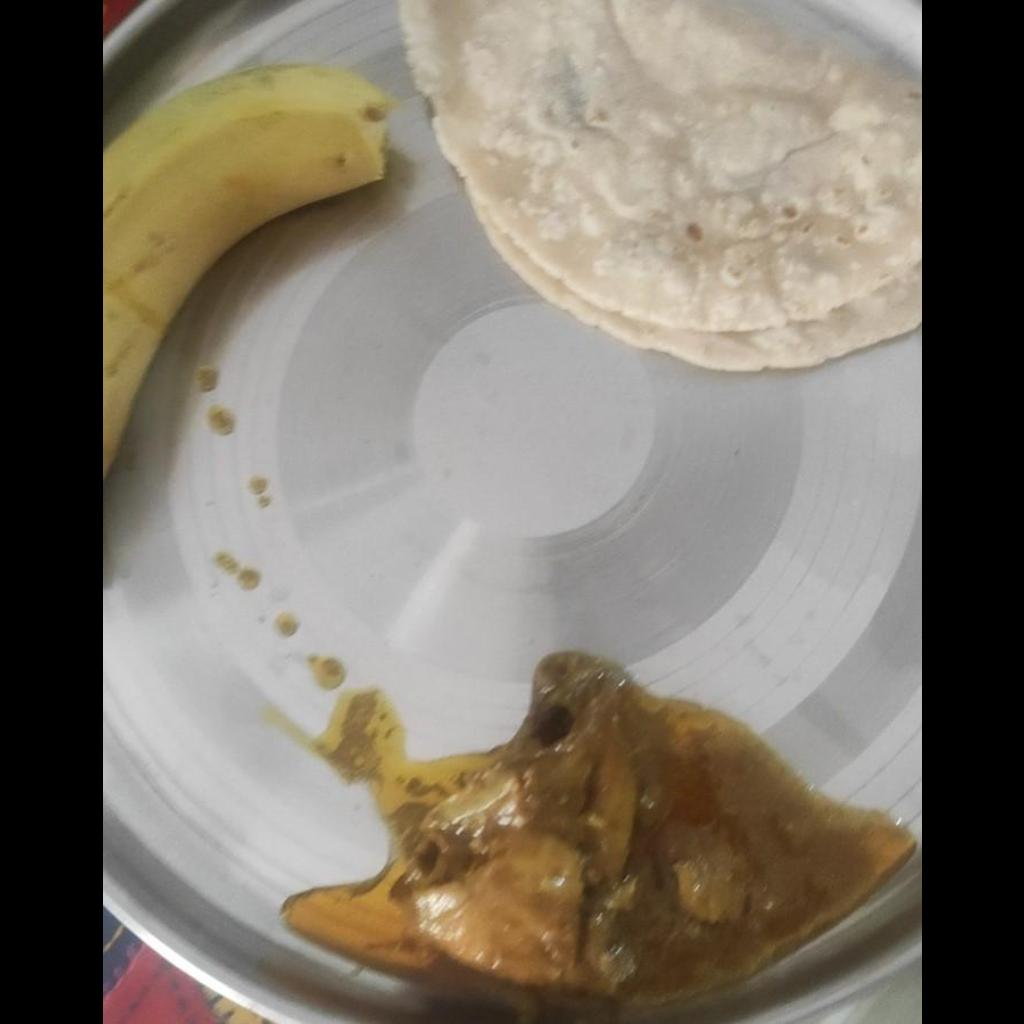banana: (102, 64, 392, 489)
chicken: (406, 649, 908, 1000)
ruti: (401, 2, 920, 368)
